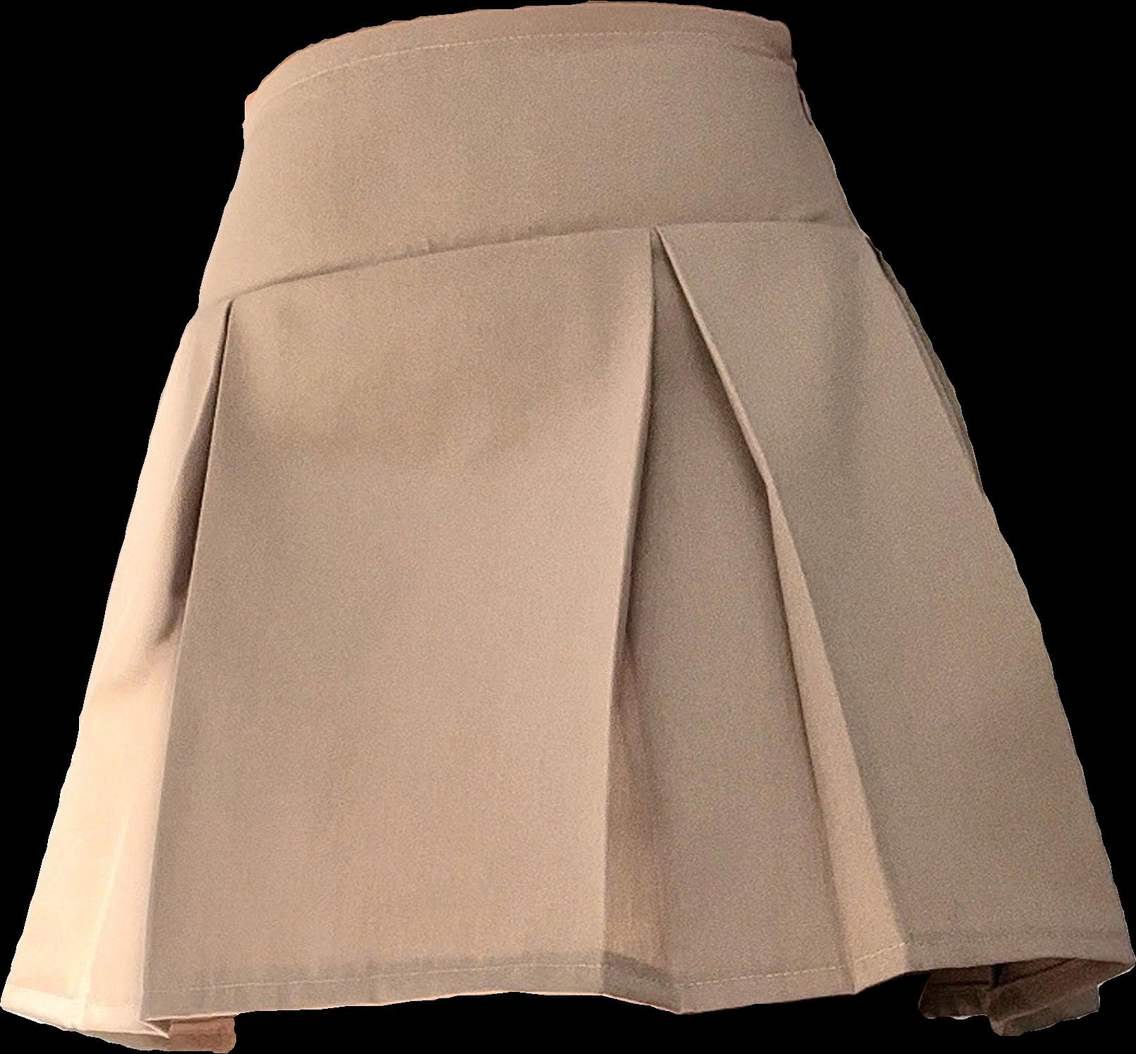Hemline: (0, 948, 1135, 1053)
Waistline: (193, 216, 871, 314), (242, 0, 790, 109)
